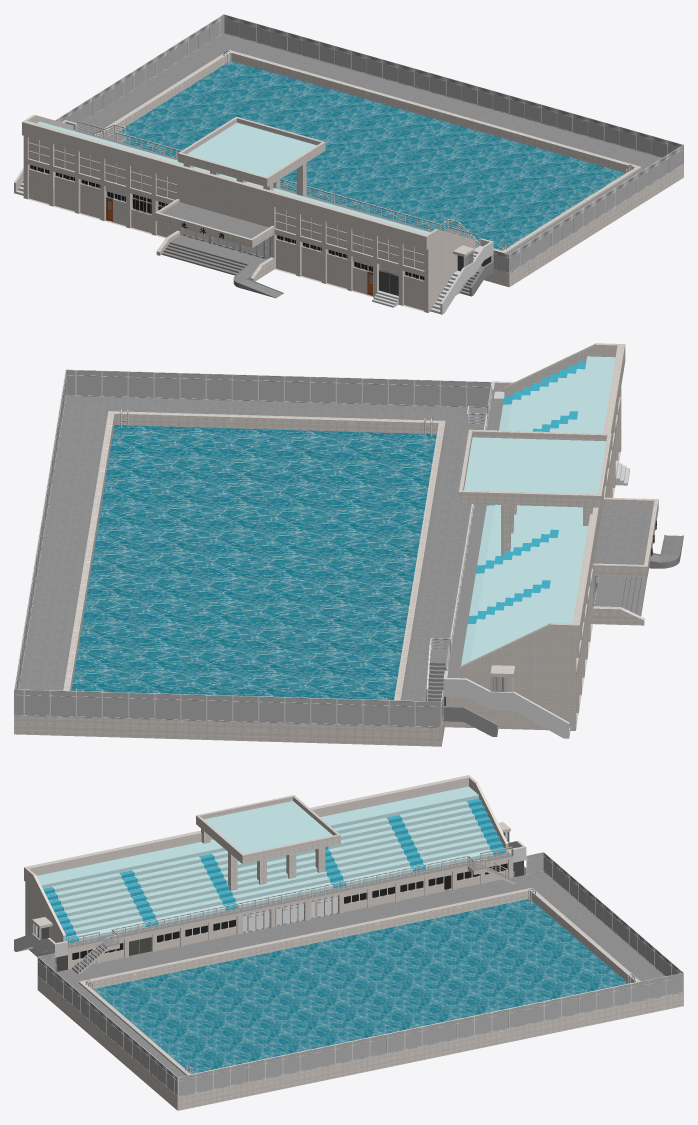
The model's file is 游泳池.glb.
The picture shows the model from 3 angles, top to bottom: view 1: azimuth 30°, elevation 25°; view 2: azimuth 150°, elevation 25°; view 3: azimuth 270°, elevation 25°; orthographic projection. The views are drawn at different scales.
Parts seen in each view (by area): view 1: G-Object.005, _G-Object.022 (Loose Mesh), G-Object.015, G-Object.006, G-Object.009, G-Object.034, C-stair_concrete_4-18, _C-組件#4 (Loose Mesh), _C-組件#4 (Loose Mesh).002, _C-組件#4 (Loose Mesh).003, _C-組件#4 (Loose Mesh).004, _G-Object.008 (Loose Mesh) (+16 smaller); view 2: G-Object.005, _G-Object.022 (Loose Mesh), C-stair_concrete_4-18, G-Object.015, G-Object.006, G-Object.028, G-Object.009, G-Object.030, G-Object.016, _G-Object.008 (Loose Mesh), C-組件#8.049, C-組件#8.053 (+31 smaller); view 3: G-Object.005, C-stair_concrete_4-18, _G-Object.022 (Loose Mesh), G-Object.015, G-Object.034, C-Door_Glass Double_Sidelights.005, C-Door_Glass Double_Sidelights.003, C-Door_Glass Double_Sidelights.004, G-Object.037.
Part boxes in pixels (left/top/right/bottom): G-Object.005: left=77, top=33, right=683, bottom=287; _G-Object.022 (Loose Mesh): left=22, top=114, right=481, bottom=312; G-Object.015: left=178, top=116, right=325, bottom=187; G-Object.006: left=155, top=199, right=274, bottom=248; G-Object.009: left=161, top=235, right=266, bottom=275; G-Object.034: left=430, top=238, right=493, bottom=314; C-stair_concrete_4-18: left=37, top=121, right=429, bottom=234; _C-組件#4 (Loose Mesh): left=27, top=164, right=49, bottom=203; _C-組件#4 (Loose Mesh).002: left=78, top=179, right=100, bottom=218; _C-組件#4 (Loose Mesh).003: left=402, top=271, right=424, bottom=310; _C-組件#4 (Loose Mesh).004: left=325, top=249, right=347, bottom=288; _G-Object.008 (Loose Mesh): left=233, top=264, right=283, bottom=298; G-Object.005: left=14, top=395, right=487, bottom=746; _G-Object.022 (Loose Mesh): left=430, top=343, right=625, bottom=730; C-stair_concrete_4-18: left=461, top=356, right=595, bottom=665; G-Object.015: left=459, top=429, right=611, bottom=507; G-Object.006: left=593, top=497, right=658, bottom=577; G-Object.028: left=443, top=671, right=570, bottom=738; G-Object.009: left=594, top=576, right=647, bottom=616; G-Object.030: left=443, top=706, right=498, bottom=736; G-Object.016: left=592, top=606, right=644, bottom=625; _G-Object.008 (Loose Mesh): left=649, top=535, right=683, bottom=568; C-組件#8.049: left=76, top=691, right=102, bottom=717; C-組件#8.053: left=284, top=697, right=310, bottom=723; G-Object.005: left=37, top=871, right=683, bottom=1110; C-stair_concrete_4-18: left=40, top=792, right=505, bottom=943; _G-Object.022 (Loose Mesh): left=24, top=775, right=513, bottom=969; G-Object.015: left=196, top=795, right=340, bottom=864; G-Object.034: left=14, top=933, right=67, bottom=957; C-Door_Glass Double_Sidelights.005: left=241, top=909, right=271, bottom=933; C-Door_Glass Double_Sidelights.003: left=275, top=902, right=305, bottom=926; C-Door_Glass Double_Sidelights.004: left=310, top=895, right=339, bottom=919; G-Object.037: left=68, top=892, right=291, bottom=962.
Bounding box in the file's own units: 63.09 × 10.69 × 69.39.
15 materials, 8 textured.
